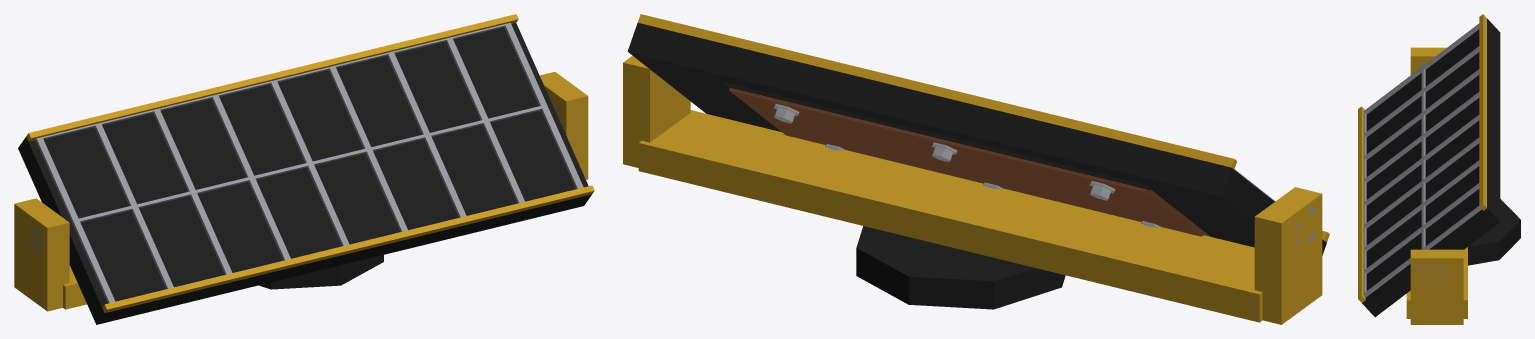
The model's file is dr5_array.obj.
3 renders of one model, left to right at view 1: azimuth 30°, elevation 25°; view 2: azimuth 150°, elevation 25°; view 3: azimuth 270°, elevation 25°, orthographic. The views are drawn at different scales.
Visible parts, largest first — view 1: dr5_array; view 2: dr5_array; view 3: dr5_array.
Part boxes in pixels (x1,y1,x2,y2): dr5_array: (14, 14, 594, 324); dr5_array: (623, 14, 1329, 324); dr5_array: (1358, 14, 1520, 324).
Size of the model in its own units: 2.44 by 0.6984 by 0.7978.
